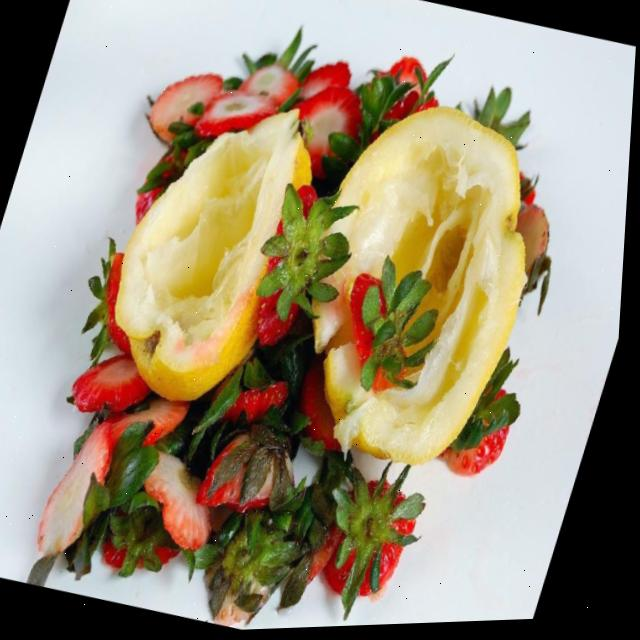Wet: (1, 0, 627, 639)
